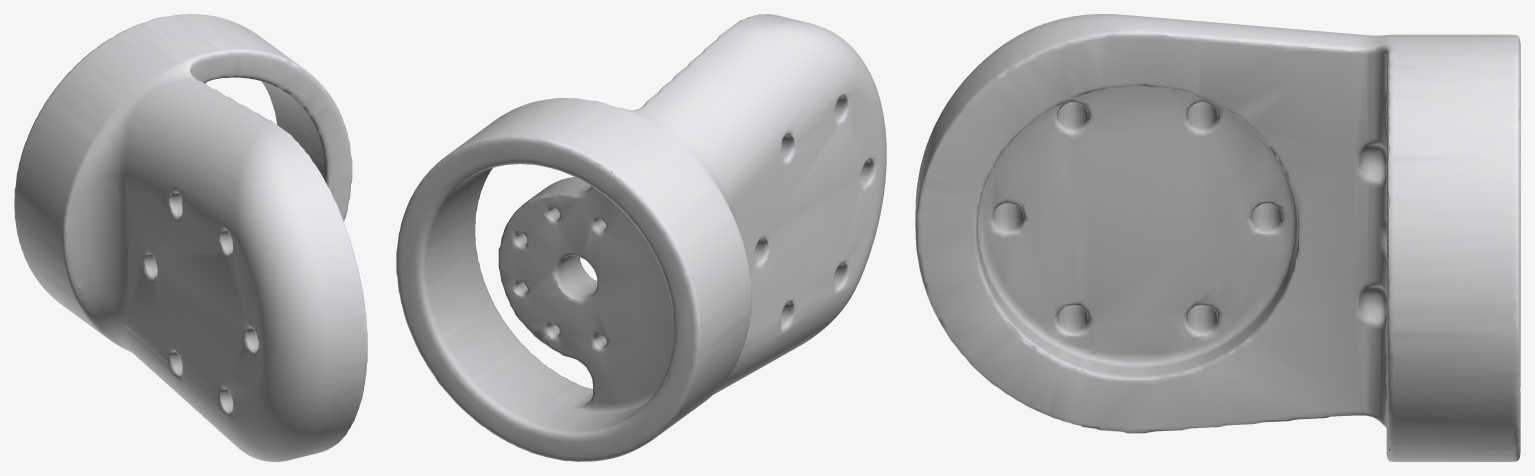
File: left_S_to_Bisecp.obj
3 renders of one model, left to right at view 1: azimuth 30°, elevation 25°; view 2: azimuth 150°, elevation 25°; view 3: azimuth 270°, elevation 25°, orthographic. The views are drawn at different scales.
Parts seen in each view (by area): view 1: left_S_to_Bisecp; view 2: left_S_to_Bisecp; view 3: left_S_to_Bisecp.
Part boxes in pixels (x1,y1,x2,y2): left_S_to_Bisecp: (14,14,367,461); left_S_to_Bisecp: (396,14,886,461); left_S_to_Bisecp: (915,14,1520,461).
Bounding box in the file's own units: 0.0644 × 0.0669 × 0.0912.
1 material, 1 textured.
